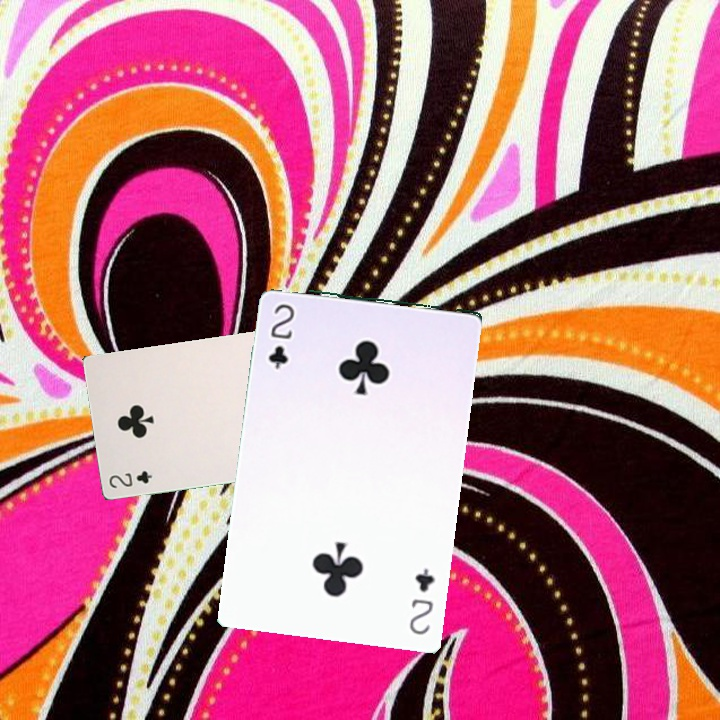2c: (405, 564, 437, 638), (265, 300, 297, 372), (105, 467, 155, 491)
